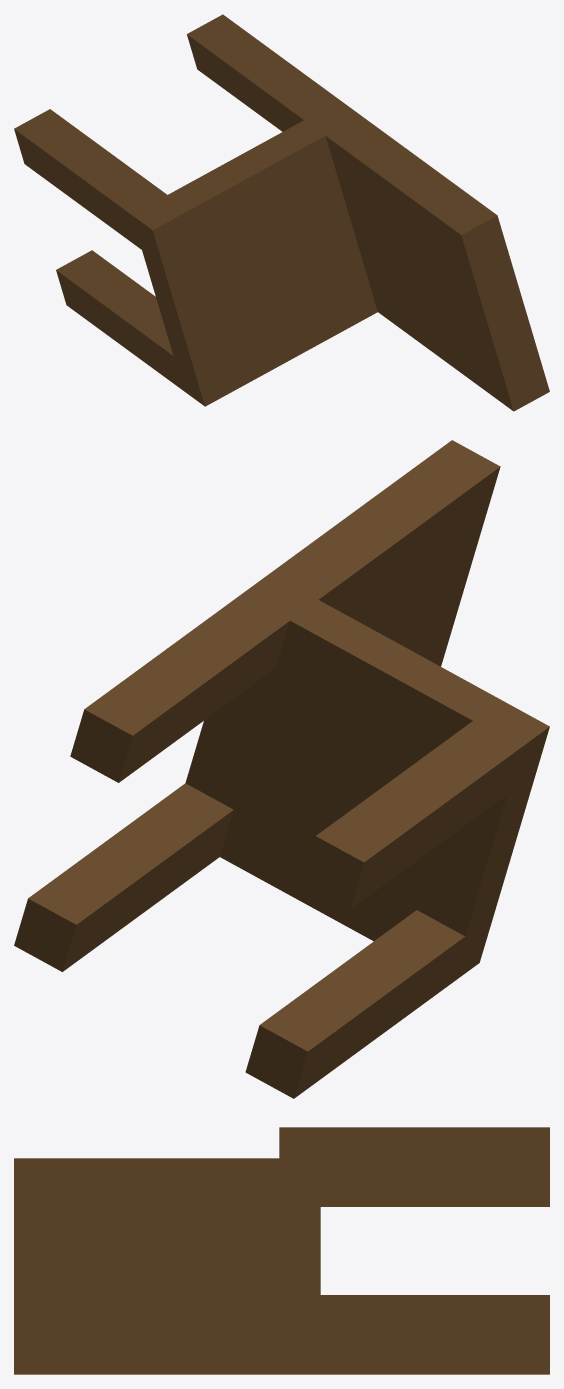
File: chair.glb
The picture shows the model from 3 angles, top to bottom: view 1: azimuth 30°, elevation 25°; view 2: azimuth 150°, elevation 25°; view 3: azimuth 270°, elevation 25°; orthographic projection. The views are drawn at different scales.
Parts seen in each view (by area): view 1: Chair; view 2: Chair; view 3: Chair.
Part boxes in pixels (x1=…): Chair: x1=14, y1=14, x2=549, y2=411; Chair: x1=14, y1=440, x2=549, y2=1098; Chair: x1=14, y1=1127, x2=549, y2=1374.
Size of the model in its own units: 7.45 by 6.88 by 13.55.
1 material, 1 textured.
